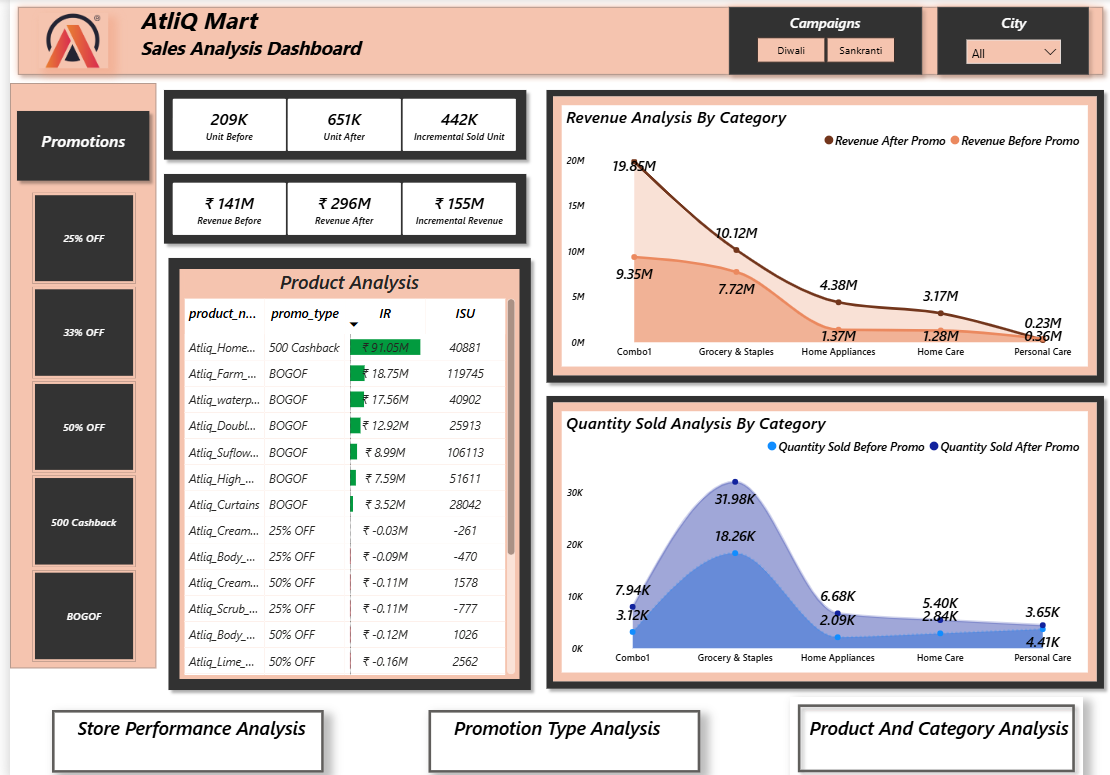

This screenshot's page, from the dashboard's own definition file:
{"tool":"powerbi","page":{"name":"Product And Category Analysis","canvas":[1280,900],"ordinal":2},"visuals":[{"type":"shape","box":[0,120,168,96],"z":0,"group":"g1"},{"type":"shape","box":[608,448,656,352],"z":0},{"type":"textbox","box":[24,144,120,48],"z":1000,"group":"g1"},{"type":"shape","box":[168,192,432,96],"z":1000},{"type":"shape","box":[173.5,289.5,432,512],"z":2000},{"type":"shape","box":[168,96,432,96],"z":3000},{"type":"shape","box":[608,96,656,352],"z":4000},{"type":"shape","box":[0,96,168,672],"z":5000},{"type":"shape","box":[0,0,1264,96],"z":6000},{"type":"image","box":[32,16,80,64],"z":7000},{"type":"textbox","box":[144,0,272,80],"z":8000},{"type":"shape","box":[1056,0,192,96],"z":8000,"group":"g3"},{"type":"slicer","title":"City","fields":{"Values":["dim_stores.city"]},"box":[1088,16,128,64],"z":9000,"group":"g3"},{"type":"slicer","fields":{"Values":["fact_events.promo_type"]},"box":[0,216,168,552],"z":9000},{"type":"shape","box":[816,0,240,96],"z":10000,"group":"g2"},{"type":"group","id":"g1","title":"Group 1","box":[0,120,168,96],"z":10000},{"type":"slicer","title":"Campaigns","fields":{"Values":["dim_campaigns.campaign_name"]},"box":[832,16,208,64],"z":11000,"group":"g2"},{"type":"cardVisual","fields":{"Data":["Sum(fact_events.Revenue Before)","Sum(fact_events.Actual Revenue)","Key Measures.IR"]},"box":[168,192,432,96],"z":11000},{"type":"cardVisual","fields":{"Data":["Sum(fact_events.quantity_sold(before_promo))","Sum(fact_events.Quantity_Sold)","Key Measures.ISU"]},"box":[168,96,432,96],"z":12000},{"type":"group","id":"g2","title":"Group 2","box":[816,0,256,96],"z":13000},{"type":"group","id":"g3","title":"Group 3","box":[1056,0,192,96],"z":14000},{"type":"areaChart","title":"Revenue Analysis By Category","fields":{"Category":["dim_products.category","fact_events.promo_type"],"Y":["Sum(fact_events.Actual Revenue)","Sum(fact_events.Revenue Before)"]},"box":[624,112,624,320],"z":15000},{"type":"areaChart","title":"Quantity Sold Analysis By Category","fields":{"Category":["dim_products.category","fact_events.promo_type"],"Y":["Sum(fact_events.quantity_sold(before_promo))","Sum(fact_events.quantity_sold(after_promo))"]},"box":[624,464,624,320],"z":16000},{"type":"tableEx","title":"Product Analysis","fields":{"Values":["dim_products.product_name","fact_events.promo_type","Key Measures.IR","Key Measures.ISU"]},"box":[194.5,310.5,390,470],"z":17000},{"type":"textbox","box":[72,816,312,48],"z":18000},{"type":"textbox","box":[912,816,312,48],"z":19000},{"type":"textbox","box":[504,816,312,48],"z":20000},{"type":"actionButton","box":[48,816,312,72],"z":21000},{"type":"actionButton","box":[480,816,312,72],"z":22000},{"type":"actionButton","box":[896,800,336,96],"z":23000}]}

Visuals, with their boxes in screenshot pixels (x1, y1, x2, y2), scaled from the page's 1280x900 canvas onto the 1110x775 screenshot:
shape: <box>0,103,146,186</box>
shape: <box>527,386,1096,689</box>
textbox: <box>21,124,125,165</box>
shape: <box>146,165,520,248</box>
shape: <box>150,249,525,690</box>
shape: <box>146,83,520,165</box>
shape: <box>527,83,1096,386</box>
shape: <box>0,83,146,661</box>
shape: <box>0,0,1096,83</box>
image: <box>28,14,97,69</box>
textbox: <box>125,0,361,69</box>
shape: <box>916,0,1082,83</box>
"City" slicer: <box>944,14,1054,69</box>
slicer - fact_events.promo_type: <box>0,186,146,661</box>
shape: <box>708,0,916,83</box>
"Group 1" group: <box>0,103,146,186</box>
"Campaigns" slicer: <box>722,14,902,69</box>
cardVisual - Sum(fact_events.Revenue Before) x Sum(fact_events.Actual Revenue): <box>146,165,520,248</box>
cardVisual - Sum(fact_events.quantity_sold(before_promo)) x Sum(fact_events.Quantity_Sold): <box>146,83,520,165</box>
"Group 2" group: <box>708,0,930,83</box>
"Group 3" group: <box>916,0,1082,83</box>
"Revenue Analysis By Category" areaChart: <box>541,96,1082,372</box>
"Quantity Sold Analysis By Category" areaChart: <box>541,400,1082,675</box>
"Product Analysis" tableEx: <box>169,267,507,672</box>
textbox: <box>62,703,333,744</box>
textbox: <box>791,703,1061,744</box>
textbox: <box>437,703,708,744</box>
actionButton: <box>42,703,312,765</box>
actionButton: <box>416,703,687,765</box>
actionButton: <box>777,689,1068,772</box>
